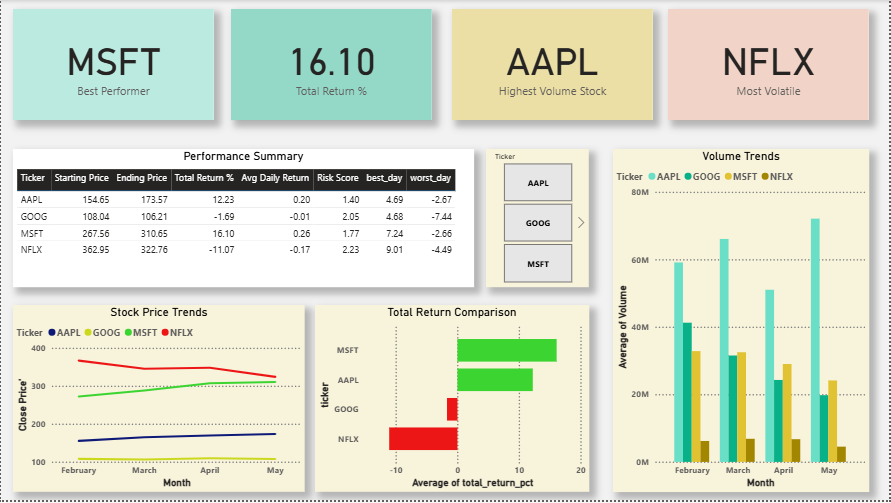

The page's visual inventory and layout, read from the dashboard file:
{"tool":"powerbi","page":{"name":"EXECUTIVE OVERVIEW","canvas":[1280,720],"ordinal":0},"visuals":[{"type":"card","fields":{"Values":["Min(performance_metrics.ticker)"]},"box":[17.3,13,289.4,159.8],"z":0},{"type":"card","fields":{"Values":["Max(performance_metrics.total_return_pct)"]},"box":[331.2,13,289.4,159.8],"z":1000},{"type":"card","fields":{"Values":["Min(dashboard_summary.ticker)"]},"box":[649.4,13,289.4,159.8],"z":2000},{"type":"card","fields":{"Values":["Min(risk_return_profile.ticker)"]},"box":[960.5,13,289.4,159.8],"z":3000},{"type":"lineChart","title":"Stock Price Trends","fields":{"Category":["stocks.Date.Variation.Date Hierarchy.Month","stocks.Date.Variation.Date Hierarchy.Day"],"Y":["Max(stocks.Close)"],"Series":["stocks.Ticker"]},"box":[17.3,439.2,420.5,269.3],"z":4000},{"type":"clusteredBarChart","title":"Total Return Comparison","fields":{"Category":["performance_metrics.ticker"],"Y":["Avg(performance_metrics.total_return_pct)"]},"box":[452.2,439.2,394.6,269.3],"z":5000},{"type":"clusteredColumnChart","title":"Volume Trends","fields":{"Category":["stocks.Date.Variation.Date Hierarchy.Month","stocks.Date.Variation.Date Hierarchy.Day"],"Y":["Avg(stocks.Volume)"],"Series":["stocks.Ticker"]},"box":[881.3,214.6,368.6,493.9],"z":6000},{"type":"tableEx","title":"Performance Summary","fields":{"Values":["dashboard_summary.ticker","dashboard_summary.starting_price","dashboard_summary.ending_price","dashboard_summary.total_return_pct","dashboard_summary.avg_daily_return","dashboard_summary.risk_score","dashboard_summary.best_day","dashboard_summary.worst_day"]},"box":[17.3,214.6,663.8,198.7],"z":7000},{"type":"slicer","fields":{"Values":["stocks.Ticker"]},"box":[698.4,214.6,148.3,198.7],"z":8000}]}

Visuals, with their boxes in screenshot pixels (x1, y1, x2, y2), scaled from the page's 1280x720 canvas onto the 891x503 screenshot:
card - Min(performance_metrics.ticker): pyautogui.locateOnScreen(12, 9, 213, 121)
card - Max(performance_metrics.total_return_pct): pyautogui.locateOnScreen(231, 9, 432, 121)
card - Min(dashboard_summary.ticker): pyautogui.locateOnScreen(452, 9, 653, 121)
card - Min(risk_return_profile.ticker): pyautogui.locateOnScreen(669, 9, 870, 121)
"Stock Price Trends" lineChart: pyautogui.locateOnScreen(12, 307, 305, 495)
"Total Return Comparison" clusteredBarChart: pyautogui.locateOnScreen(315, 307, 589, 495)
"Volume Trends" clusteredColumnChart: pyautogui.locateOnScreen(613, 150, 870, 495)
"Performance Summary" tableEx: pyautogui.locateOnScreen(12, 150, 474, 289)
slicer - stocks.Ticker: pyautogui.locateOnScreen(486, 150, 589, 289)
